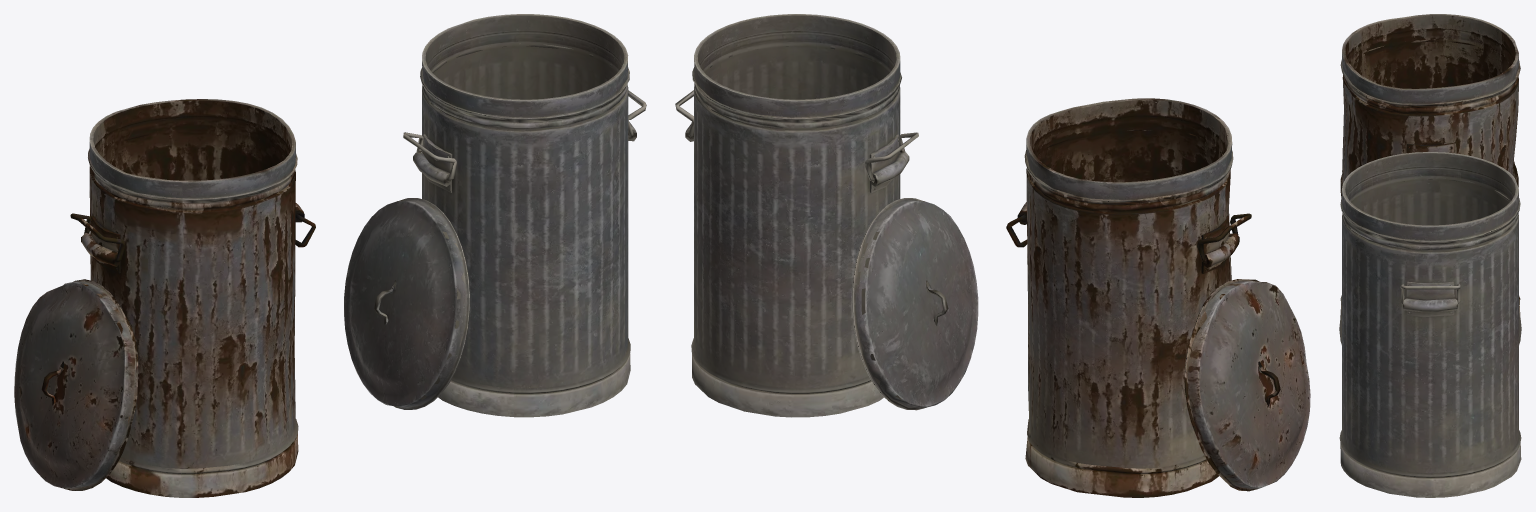
Rendered from trashcans.glb.
The picture shows the model from 3 angles, left to right: view 1: azimuth 30°, elevation 25°; view 2: azimuth 150°, elevation 25°; view 3: azimuth 270°, elevation 25°; orthographic projection. The views are drawn at different scales.
Visible parts, largest first — view 1: metal_trash_can_handle_left, metal_trash_can_rust; view 2: metal_trash_can_handle_left, metal_trash_can_rust; view 3: metal_trash_can_handle_left, metal_trash_can_rust.
Boxes of the visible parts, x1,y1,x2,y2 form: metal_trash_can_handle_left: (344, 14, 646, 417); metal_trash_can_rust: (14, 99, 315, 497); metal_trash_can_handle_left: (675, 14, 978, 417); metal_trash_can_rust: (1006, 98, 1310, 497); metal_trash_can_handle_left: (1339, 152, 1521, 497); metal_trash_can_rust: (1340, 14, 1520, 317).
Bounding box in the file's own units: 1.78 × 0.9062 × 0.5543.
Materials: 2 (2 with a texture image).
